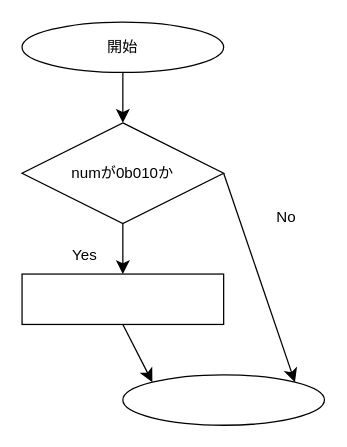
Some shapes in this 347 by 447 pixel diagram are drawn without their labels. The box of each missing label's shape, as (x1, y1, x2, y2) in pixels:
situationをsに設定: (21, 273, 224, 324)
終了: (122, 374, 324, 425)
